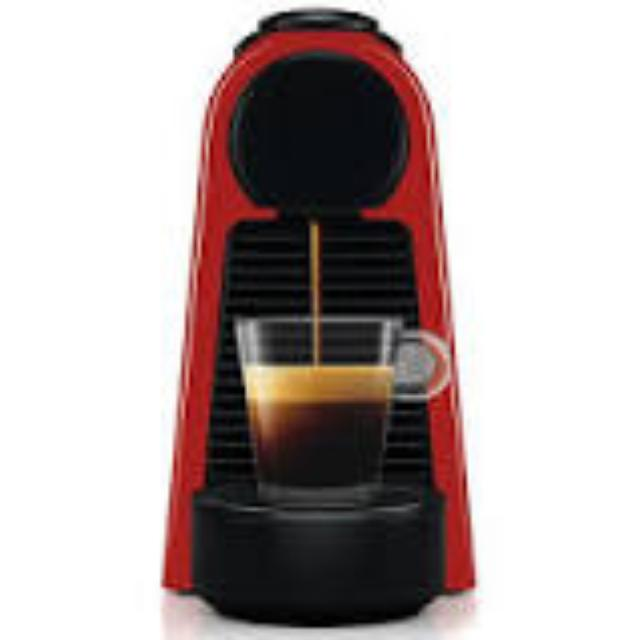Coffee-Machine: (156, 6, 480, 630)
